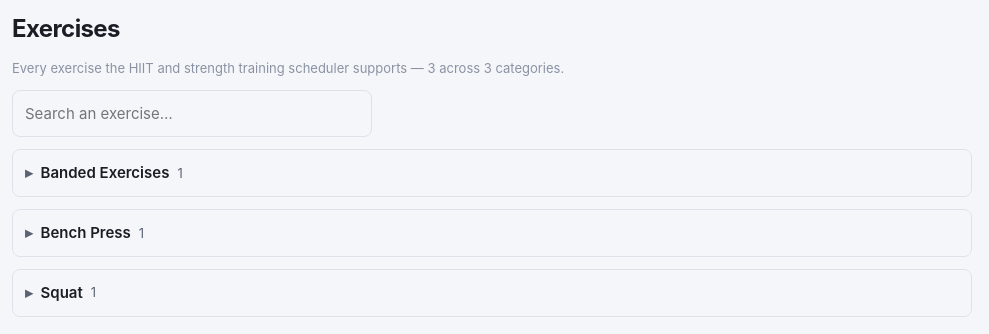
Scenario: ExerciseLibraryPage › shows a no-matches message for a search with no results
Expected: the heading "Bench Press 1" is shown, [13,210,971,256]
Type "nonexistent exercise xyz" into the search field with placeholder "Search an exercise…" at (192, 114), box [12,90,372,137]
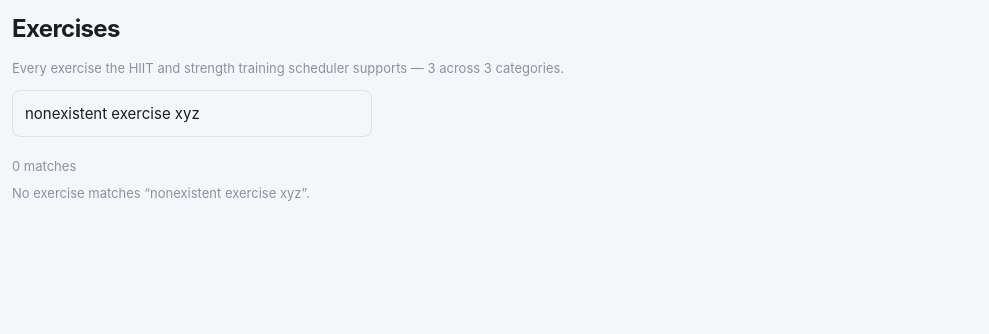
Expected: the text "No exercise matches “nonexistent exercise xyz”." is shown, [12,185,310,201]
